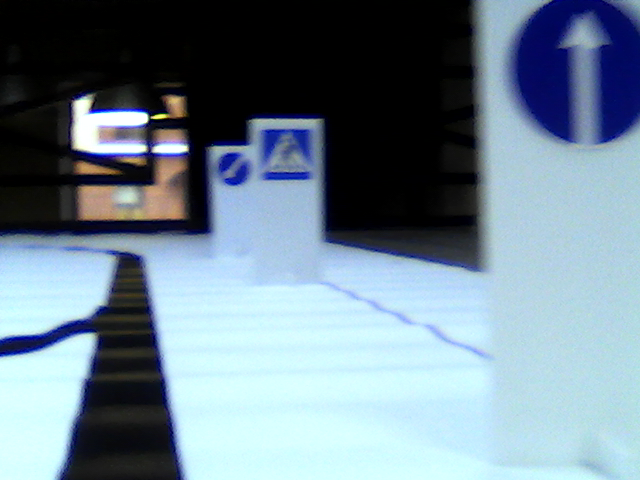forw: (513, 1, 636, 148)
pesh: (257, 124, 318, 183)
prep: (218, 153, 250, 184)
